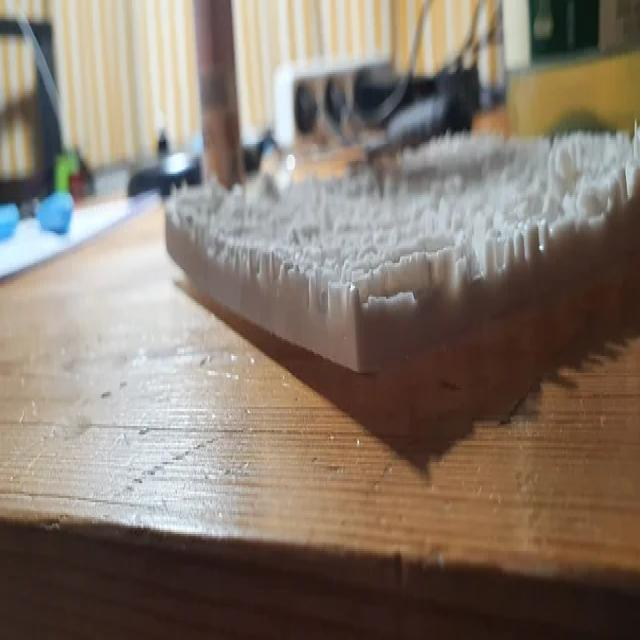Warping: (241, 248, 607, 402), (164, 231, 229, 311)
